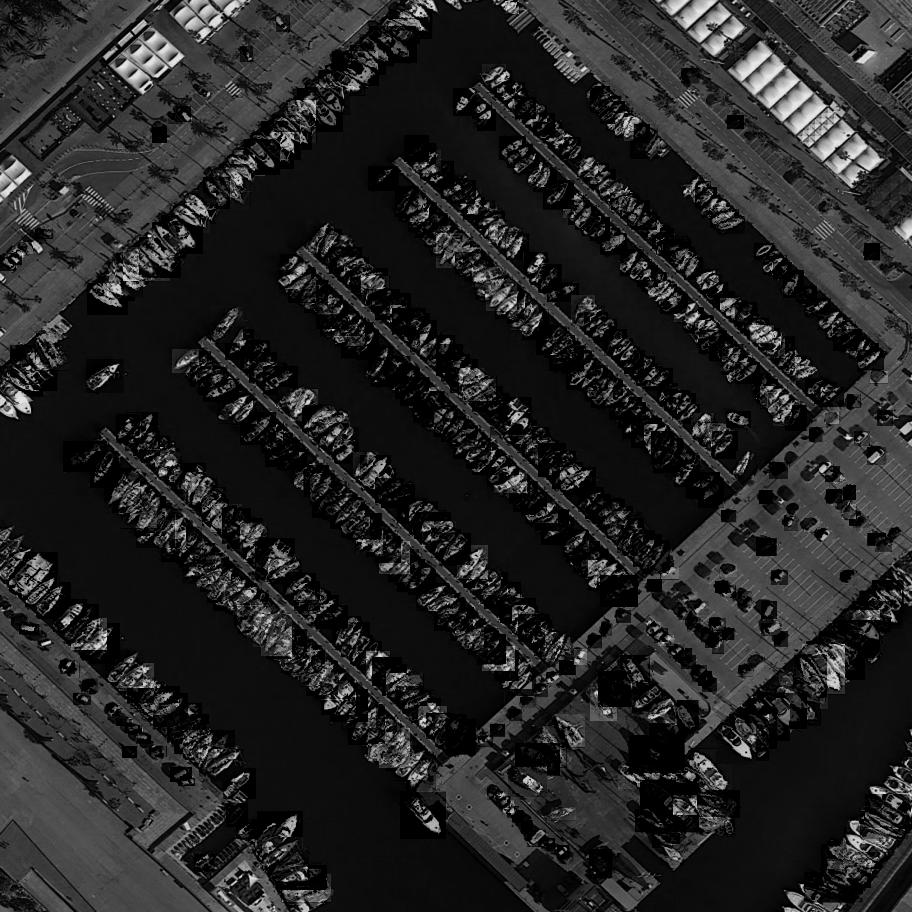large-vehicle: (170, 767, 192, 783), (19, 625, 40, 635)
ship: (641, 779, 699, 834), (257, 810, 303, 867), (9, 550, 59, 601), (806, 640, 866, 680), (630, 736, 686, 778), (10, 344, 58, 393), (688, 749, 733, 801), (821, 845, 871, 891), (400, 792, 446, 841), (802, 644, 845, 696), (297, 87, 343, 134), (773, 684, 822, 726), (833, 620, 880, 661), (749, 698, 791, 743), (758, 693, 809, 730), (730, 713, 769, 761), (333, 51, 379, 91), (779, 674, 830, 710), (370, 26, 417, 65), (139, 237, 181, 280), (847, 818, 899, 852), (162, 214, 204, 256), (136, 505, 177, 548), (211, 167, 251, 211), (250, 132, 295, 171), (200, 730, 236, 778), (261, 121, 303, 162), (490, 396, 532, 437), (716, 723, 756, 766), (804, 872, 856, 905), (256, 538, 295, 581), (739, 708, 778, 751), (845, 827, 888, 866), (860, 592, 905, 629), (865, 795, 911, 831), (348, 703, 387, 745), (122, 486, 158, 531), (827, 841, 881, 871), (516, 742, 561, 777), (81, 623, 120, 662), (283, 874, 332, 905), (123, 249, 170, 281), (306, 83, 350, 117), (0, 366, 45, 399), (368, 720, 401, 764), (106, 648, 143, 687), (104, 469, 140, 509), (273, 115, 313, 151), (184, 729, 229, 761), (262, 838, 304, 872), (63, 441, 107, 473), (796, 654, 828, 698), (859, 812, 909, 840), (820, 632, 865, 663), (110, 259, 144, 300), (269, 852, 310, 886), (182, 553, 226, 584), (389, 9, 433, 40), (286, 101, 317, 145), (252, 607, 286, 647), (161, 522, 194, 563), (66, 604, 99, 645), (261, 615, 293, 657), (234, 591, 270, 628), (244, 140, 280, 177), (313, 481, 348, 519), (214, 576, 252, 611), (87, 359, 125, 394), (330, 688, 368, 723), (598, 670, 633, 708), (277, 865, 328, 891), (237, 605, 281, 635), (88, 282, 128, 315), (212, 306, 244, 347), (37, 332, 69, 373), (380, 728, 411, 770), (168, 714, 210, 745), (322, 680, 359, 715), (37, 582, 71, 620), (206, 749, 244, 783), (372, 356, 411, 389), (113, 481, 152, 514), (600, 575, 639, 608), (126, 412, 158, 452), (325, 65, 365, 97), (852, 602, 892, 634), (696, 790, 740, 819), (135, 495, 166, 536), (691, 791, 722, 832), (240, 412, 276, 447), (54, 599, 90, 634), (394, 749, 431, 783), (437, 232, 471, 269), (342, 322, 374, 361), (172, 204, 211, 236), (208, 564, 239, 604), (163, 703, 203, 734), (310, 411, 351, 441), (285, 645, 326, 675), (266, 629, 307, 659), (153, 222, 187, 258), (71, 618, 107, 652), (153, 513, 186, 550), (540, 726, 568, 769), (407, 754, 437, 794), (343, 695, 377, 730), (25, 575, 60, 609), (282, 633, 311, 674), (227, 518, 263, 551), (330, 497, 366, 530), (872, 581, 905, 617), (553, 714, 586, 750), (154, 694, 190, 727), (225, 584, 262, 616), (306, 660, 338, 697), (508, 767, 547, 797), (142, 686, 181, 716), (434, 598, 468, 632), (853, 610, 881, 651), (447, 719, 477, 757), (300, 649, 329, 688), (218, 392, 252, 425), (435, 715, 467, 750), (457, 545, 489, 580), (314, 669, 349, 701), (379, 541, 410, 577), (240, 340, 271, 376), (653, 438, 684, 474), (606, 511, 644, 540), (117, 253, 150, 286), (440, 534, 472, 568), (588, 560, 622, 592), (263, 366, 298, 397), (361, 455, 392, 490), (351, 45, 386, 76), (222, 509, 252, 545), (320, 311, 360, 338), (376, 292, 412, 322), (414, 511, 451, 540), (200, 556, 229, 593), (560, 466, 597, 495), (113, 663, 154, 689), (342, 621, 370, 659), (306, 595, 339, 627), (413, 391, 445, 424), (454, 430, 487, 462), (318, 71, 350, 104), (499, 659, 533, 690), (389, 549, 420, 583), (358, 718, 397, 745), (621, 656, 650, 692), (288, 267, 316, 304), (484, 581, 521, 609), (91, 451, 119, 488), (591, 378, 623, 410), (566, 358, 597, 391), (631, 418, 664, 449), (332, 616, 362, 650), (279, 261, 313, 291), (360, 37, 394, 67), (622, 410, 656, 440), (428, 335, 457, 370), (410, 501, 438, 537), (387, 744, 423, 772), (174, 463, 206, 494), (185, 193, 217, 224), (223, 768, 255, 799), (486, 280, 518, 311), (541, 516, 574, 546), (387, 673, 425, 699), (382, 19, 420, 45), (417, 583, 451, 612), (347, 514, 382, 542), (539, 443, 567, 478), (500, 597, 536, 624), (99, 275, 135, 302), (618, 517, 645, 553), (352, 268, 389, 294), (335, 317, 366, 348), (431, 529, 462, 560), (546, 451, 577, 482), (372, 657, 402, 689), (476, 633, 506, 665), (824, 870, 864, 894), (518, 613, 551, 642), (645, 696, 678, 725), (329, 247, 362, 276), (361, 275, 390, 308), (240, 524, 268, 558), (397, 559, 425, 593), (356, 521, 384, 555), (342, 504, 370, 538), (290, 389, 318, 423), (634, 534, 662, 568), (643, 541, 671, 575), (451, 359, 479, 393), (476, 275, 514, 300), (191, 477, 218, 512), (671, 700, 698, 735), (131, 683, 166, 710), (128, 669, 155, 704), (325, 235, 352, 270), (463, 376, 498, 403), (177, 530, 203, 566), (591, 687, 617, 723), (212, 504, 243, 534), (225, 330, 256, 360), (400, 378, 431, 408), (303, 406, 334, 436), (544, 180, 574, 211), (331, 426, 360, 458), (203, 177, 232, 209), (633, 684, 665, 713), (536, 326, 568, 355), (495, 288, 524, 320), (294, 458, 322, 491), (317, 301, 350, 329), (585, 370, 613, 403), (687, 472, 720, 500), (266, 440, 300, 467), (631, 126, 658, 160), (392, 309, 426, 336), (411, 319, 438, 353), (268, 559, 303, 585), (369, 346, 395, 381), (175, 729, 210, 755), (307, 220, 333, 255), (293, 279, 329, 304), (546, 632, 571, 668), (203, 378, 239, 403), (574, 549, 610, 574), (549, 346, 585, 371), (441, 353, 471, 383), (305, 284, 334, 315), (251, 819, 282, 848), (409, 203, 438, 234), (553, 462, 584, 491), (436, 345, 465, 376), (468, 628, 500, 656), (249, 352, 277, 384), (480, 573, 508, 605), (470, 569, 502, 597), (318, 423, 350, 451), (618, 764, 650, 792), (431, 228, 463, 256), (283, 573, 316, 600), (423, 521, 456, 548), (623, 530, 656, 557), (200, 486, 226, 520), (482, 646, 516, 672), (382, 484, 416, 510), (674, 454, 700, 488), (322, 495, 357, 520), (180, 544, 215, 569), (366, 530, 397, 558), (367, 467, 398, 495), (451, 615, 483, 642), (234, 150, 266, 177), (577, 364, 609, 391), (337, 256, 369, 283), (523, 428, 550, 460), (382, 664, 408, 697), (409, 698, 442, 724), (294, 580, 320, 613), (415, 213, 448, 239), (396, 366, 421, 400), (600, 507, 634, 532), (651, 431, 676, 465), (199, 368, 228, 397), (408, 566, 436, 596), (494, 471, 529, 495), (398, 498, 429, 525), (522, 310, 549, 341), (512, 604, 538, 636), (649, 723, 675, 755), (368, 167, 400, 193), (527, 439, 559, 465), (699, 477, 725, 509), (304, 465, 329, 498), (311, 473, 336, 506), (426, 713, 455, 741), (472, 447, 501, 475), (773, 399, 802, 427), (512, 304, 541, 332), (618, 402, 647, 430), (563, 528, 590, 558), (375, 478, 405, 505), (473, 386, 503, 413), (459, 368, 486, 398), (466, 438, 492, 469), (594, 498, 625, 524), (299, 591, 331, 616), (494, 650, 519, 682), (190, 362, 222, 387), (514, 481, 539, 513), (395, 186, 420, 218), (636, 809, 669, 833), (609, 397, 642, 421), (318, 229, 342, 262), (228, 155, 256, 183), (142, 437, 171, 464), (203, 499, 230, 528), (601, 386, 630, 413), (567, 541, 601, 564), (525, 502, 559, 525), (116, 414, 142, 444), (504, 418, 534, 444), (712, 431, 738, 461), (498, 225, 524, 255), (405, 313, 430, 344), (421, 406, 456, 428), (535, 510, 570, 532), (316, 606, 348, 630), (488, 463, 520, 487), (508, 293, 532, 325), (369, 289, 401, 313), (508, 671, 536, 698), (442, 417, 470, 444), (534, 630, 561, 658), (376, 536, 402, 565), (353, 452, 379, 481), (644, 424, 670, 453), (358, 641, 383, 671), (589, 848, 614, 878), (424, 223, 454, 248), (400, 198, 430, 223), (538, 264, 563, 294), (499, 587, 521, 621), (581, 557, 615, 579), (366, 650, 390, 681), (402, 690, 433, 714), (188, 351, 212, 382), (529, 620, 553, 651), (219, 164, 250, 188), (350, 635, 373, 667), (278, 387, 310, 410), (544, 336, 576, 359), (133, 430, 160, 457), (447, 607, 475, 633), (463, 560, 489, 588), (404, 135, 430, 163), (472, 267, 505, 289), (435, 409, 460, 438), (699, 330, 728, 355), (645, 368, 674, 393), (461, 621, 485, 651), (571, 294, 595, 324), (185, 472, 208, 503), (356, 330, 379, 361), (256, 363, 287, 386), (278, 448, 309, 471), (833, 329, 864, 352), (449, 245, 481, 267), (455, 252, 487, 274), (346, 264, 373, 290), (173, 349, 201, 374), (257, 422, 285, 447), (513, 151, 541, 176), (420, 706, 449, 730), (695, 320, 719, 349), (413, 150, 442, 174), (563, 350, 592, 374), (410, 387, 440, 410), (150, 448, 181, 470), (464, 259, 495, 281), (708, 423, 730, 454), (451, 180, 477, 206), (578, 487, 604, 513), (507, 143, 533, 169), (586, 494, 613, 519), (533, 167, 558, 194), (691, 413, 716, 440), (157, 453, 181, 481), (261, 433, 293, 454), (598, 570, 630, 591), (620, 249, 644, 277), (499, 137, 527, 161), (524, 252, 548, 280), (577, 305, 605, 329), (590, 319, 618, 343), (449, 425, 478, 448), (454, 89, 477, 118), (673, 393, 696, 422), (547, 283, 580, 303), (429, 594, 460, 615), (630, 758, 661, 779), (522, 492, 548, 517), (729, 355, 754, 381), (769, 394, 795, 419), (722, 348, 746, 375), (431, 160, 455, 187), (661, 291, 688, 315), (627, 200, 650, 228), (506, 233, 529, 261), (605, 329, 628, 357), (518, 421, 538, 453), (509, 476, 531, 505), (314, 295, 344, 316), (500, 82, 526, 106), (710, 337, 734, 363), (735, 362, 761, 386), (631, 355, 655, 381), (761, 387, 788, 410), (858, 350, 885, 373), (606, 109, 633, 132), (441, 178, 469, 200), (601, 234, 629, 256), (783, 270, 804, 299), (409, 144, 438, 165), (819, 307, 844, 331), (601, 102, 626, 126), (649, 278, 674, 302), (585, 312, 610, 336), (458, 189, 481, 215), (664, 389, 690, 412), (735, 302, 757, 329), (591, 86, 612, 114), (701, 195, 725, 219), (489, 70, 513, 94), (814, 382, 838, 406), (582, 212, 606, 236), (611, 338, 635, 362), (421, 335, 444, 360), (226, 803, 248, 829), (757, 379, 779, 405), (615, 113, 637, 139), (674, 301, 700, 323), (575, 205, 597, 231), (396, 687, 423, 708), (237, 398, 257, 426), (636, 366, 664, 386), (475, 200, 495, 228), (619, 669, 642, 693), (660, 843, 684, 866), (652, 830, 681, 849), (569, 200, 591, 225), (483, 218, 508, 240), (786, 405, 807, 431), (826, 315, 847, 341), (661, 718, 687, 739), (673, 795, 699, 816), (601, 180, 627, 201), (591, 218, 612, 244), (589, 169, 616, 189), (582, 163, 609, 183), (529, 161, 549, 188), (489, 225, 516, 245), (711, 210, 739, 229), (776, 336, 795, 364), (611, 193, 639, 212), (477, 211, 505, 230), (280, 254, 303, 277), (758, 328, 781, 351), (696, 187, 718, 211), (335, 443, 359, 465), (483, 65, 507, 87), (559, 137, 581, 161), (763, 255, 788, 276), (595, 175, 620, 196), (464, 197, 485, 222), (563, 193, 584, 218), (642, 272, 667, 293), (624, 351, 645, 376), (806, 298, 832, 318), (685, 308, 704, 335), (631, 212, 658, 231), (706, 282, 729, 304), (692, 315, 715, 337), (609, 185, 632, 207), (540, 120, 562, 143), (533, 113, 555, 136), (657, 384, 679, 407), (718, 217, 746, 235), (833, 321, 857, 342), (850, 336, 871, 360), (676, 764, 700, 785), (637, 265, 658, 289), (736, 450, 754, 478), (658, 284, 678, 309), (699, 421, 718, 447), (663, 240, 692, 257), (594, 96, 621, 114), (520, 106, 547, 124), (701, 274, 723, 296), (823, 388, 845, 410), (488, 394, 510, 416), (577, 155, 599, 177), (678, 405, 700, 427), (530, 264, 552, 286), (653, 228, 674, 251), (684, 177, 705, 200), (515, 97, 536, 120), (509, 90, 529, 114), (806, 378, 830, 398), (621, 197, 641, 221), (750, 325, 775, 344), (624, 118, 643, 143), (767, 332, 785, 358), (717, 344, 743, 362), (726, 410, 752, 428), (244, 543, 265, 565), (793, 358, 814, 380), (726, 301, 748, 322), (644, 225, 671, 242), (684, 257, 703, 281), (617, 348, 641, 367), (782, 356, 807, 374), (670, 452, 695, 470), (631, 260, 652, 281), (712, 200, 731, 223), (677, 251, 696, 274), (696, 269, 719, 288), (856, 343, 880, 361), (754, 373, 772, 397), (745, 319, 769, 337), (478, 108, 496, 132), (641, 216, 661, 237), (564, 146, 586, 165), (693, 181, 711, 204), (90, 648, 114, 665), (670, 247, 695, 263), (778, 349, 796, 371), (795, 367, 818, 384), (741, 313, 760, 333), (472, 102, 492, 121), (714, 291, 735, 309), (495, 81, 516, 99), (421, 164, 442, 182), (390, 305, 407, 327), (597, 228, 620, 244), (658, 771, 684, 785), (291, 98, 310, 117), (774, 262, 793, 281), (546, 129, 565, 148), (237, 822, 257, 840), (755, 244, 776, 261), (195, 854, 216, 871), (167, 466, 183, 488), (551, 807, 576, 821), (634, 124, 651, 144), (797, 287, 818, 303), (493, 455, 511, 473), (657, 238, 674, 257), (721, 298, 741, 313), (227, 385, 243, 402), (505, 0, 521, 16), (526, 115, 544, 128), (724, 820, 736, 837)
small-vehicle: (868, 447, 888, 467), (756, 539, 778, 557), (528, 830, 548, 849), (769, 462, 789, 480), (877, 411, 896, 428), (761, 600, 777, 620), (818, 527, 835, 545), (825, 466, 842, 484), (748, 654, 766, 671), (681, 69, 700, 85), (870, 371, 889, 387), (772, 570, 789, 587), (152, 127, 169, 144), (887, 527, 904, 544), (865, 244, 881, 262), (855, 431, 871, 449), (841, 570, 857, 588), (709, 618, 728, 633), (762, 623, 782, 637), (727, 115, 744, 131), (805, 518, 821, 535), (176, 106, 192, 123), (675, 648, 692, 664), (830, 474, 848, 489), (276, 15, 291, 33), (706, 632, 721, 650), (559, 661, 577, 676), (868, 533, 887, 547), (661, 567, 680, 581), (853, 516, 869, 532), (842, 505, 858, 521), (826, 489, 842, 505), (820, 462, 836, 478), (647, 578, 663, 594), (82, 678, 98, 694), (694, 600, 710, 616), (707, 94, 724, 109), (67, 663, 82, 680), (875, 538, 892, 553), (720, 586, 737, 601), (721, 564, 738, 579), (669, 643, 686, 658), (784, 515, 798, 533), (787, 502, 802, 518), (739, 591, 754, 607), (809, 427, 824, 443), (847, 394, 862, 410), (693, 665, 708, 681), (647, 622, 663, 637), (721, 510, 738, 524), (61, 658, 75, 675), (74, 693, 91, 707), (688, 616, 702, 633), (699, 671, 713, 688), (759, 491, 774, 506), (682, 655, 697, 670), (1, 258, 17, 272), (820, 200, 834, 216), (837, 499, 851, 515), (122, 746, 138, 760), (534, 684, 550, 698), (775, 632, 789, 648), (703, 678, 719, 692), (654, 628, 668, 644), (241, 46, 254, 63), (546, 672, 563, 685), (575, 649, 588, 666), (149, 747, 167, 759), (558, 845, 572, 860), (490, 724, 505, 738), (678, 607, 692, 622), (843, 484, 856, 500), (8, 253, 24, 266), (520, 697, 536, 710), (826, 413, 842, 426), (659, 636, 675, 649), (34, 229, 54, 239), (588, 635, 602, 649), (13, 247, 28, 260), (738, 666, 753, 679), (492, 792, 508, 804), (478, 737, 494, 749), (12, 615, 28, 627), (713, 639, 725, 655), (616, 611, 632, 623), (168, 114, 185, 125), (20, 243, 33, 257), (562, 852, 575, 866), (499, 796, 512, 810), (107, 704, 120, 718), (509, 709, 523, 722), (723, 628, 736, 642), (716, 581, 729, 595), (701, 629, 714, 643), (849, 511, 861, 526), (522, 821, 534, 836), (683, 592, 698, 604), (179, 778, 196, 788), (507, 806, 520, 819), (513, 810, 525, 824), (503, 801, 515, 815), (487, 786, 499, 800), (602, 622, 614, 636), (197, 89, 213, 99), (542, 839, 556, 850), (136, 735, 151, 744), (125, 726, 142, 733), (117, 719, 131, 726)
